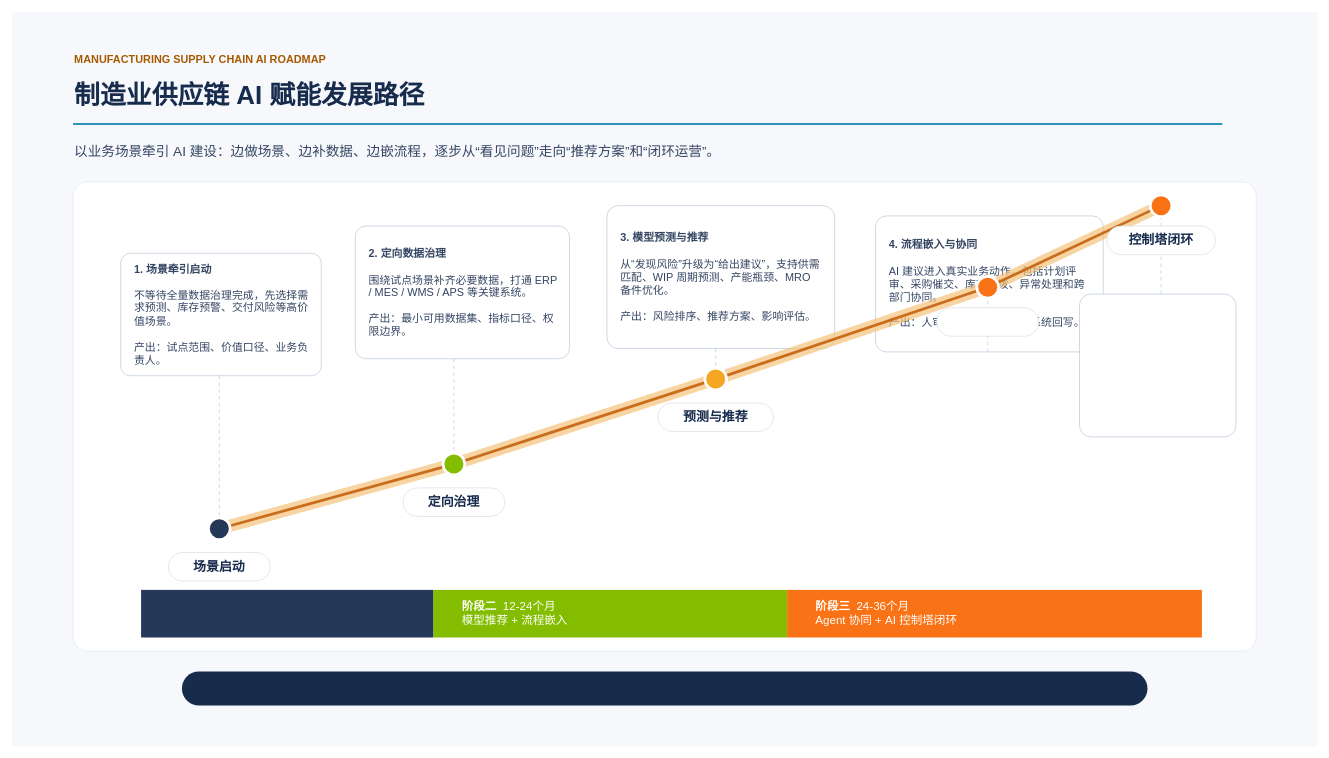
Some shapes in this 1329 by 758 pixel diagram are drawn without their labels. The shapes that lost their labels are listed below. From the top down, each one's centre as x and y in pixels, then its label:
At (987,321): "流程嵌入".
At (1157,365): "5. 控制塔闭环 统一监控订单、库存、产能、供应商和交付风险。AI 推荐，人类审批，系统执行。 产出：结果回流、模型迭代、持续优化。".
At (287,613): "阶段一 0-12个月 场景试点 + 定向数据治理".
At (664,688): "共同机制：业务场景提出数据需求 → 定向治理 → 模型验证 → 流程嵌入 → 结果回流形成数据资产".
